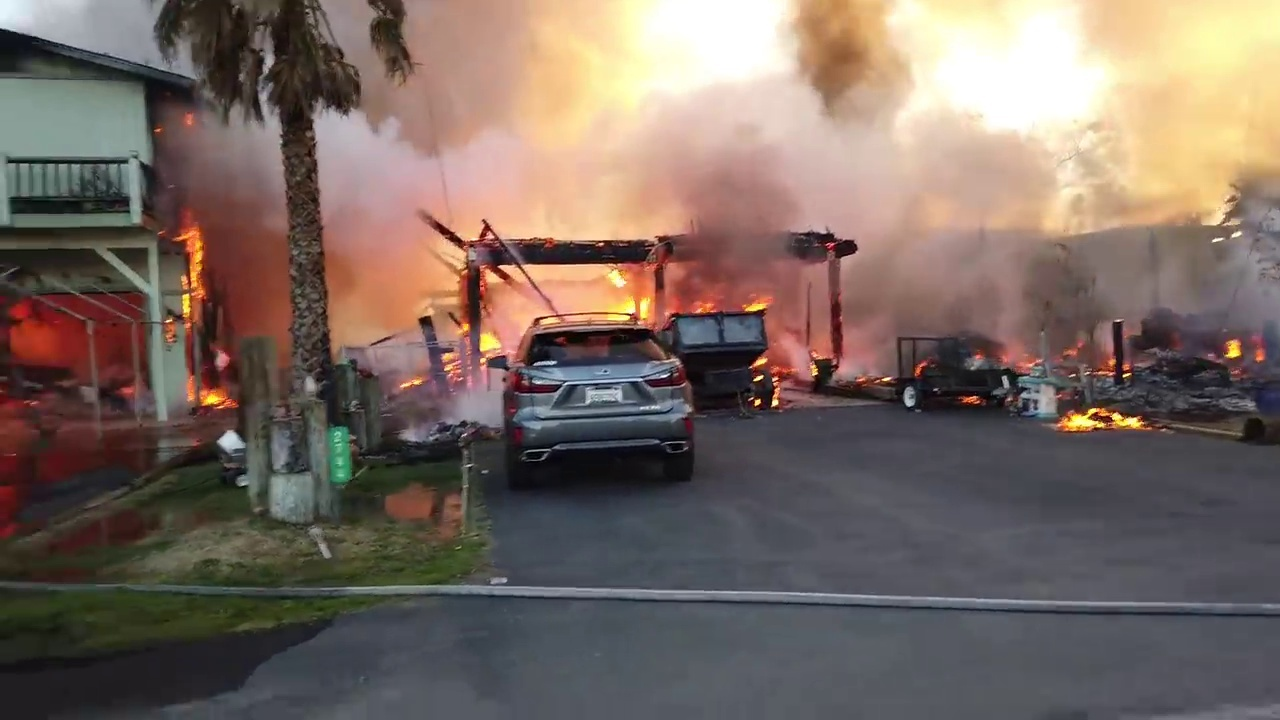fire: (2, 298, 145, 375), (162, 203, 215, 349), (1060, 403, 1146, 426), (807, 347, 839, 390), (193, 382, 234, 414), (1215, 334, 1244, 358), (396, 371, 429, 389), (1101, 353, 1128, 371), (742, 295, 771, 310), (856, 369, 890, 380), (748, 393, 769, 404), (1019, 357, 1038, 369)
smoke: (828, 118, 1178, 337), (335, 2, 646, 148), (924, 2, 1280, 118), (648, 110, 818, 287), (330, 148, 645, 241), (778, 1, 919, 171), (1179, 127, 1280, 320), (328, 246, 470, 370), (212, 206, 294, 337), (163, 122, 284, 202), (775, 317, 810, 386)
